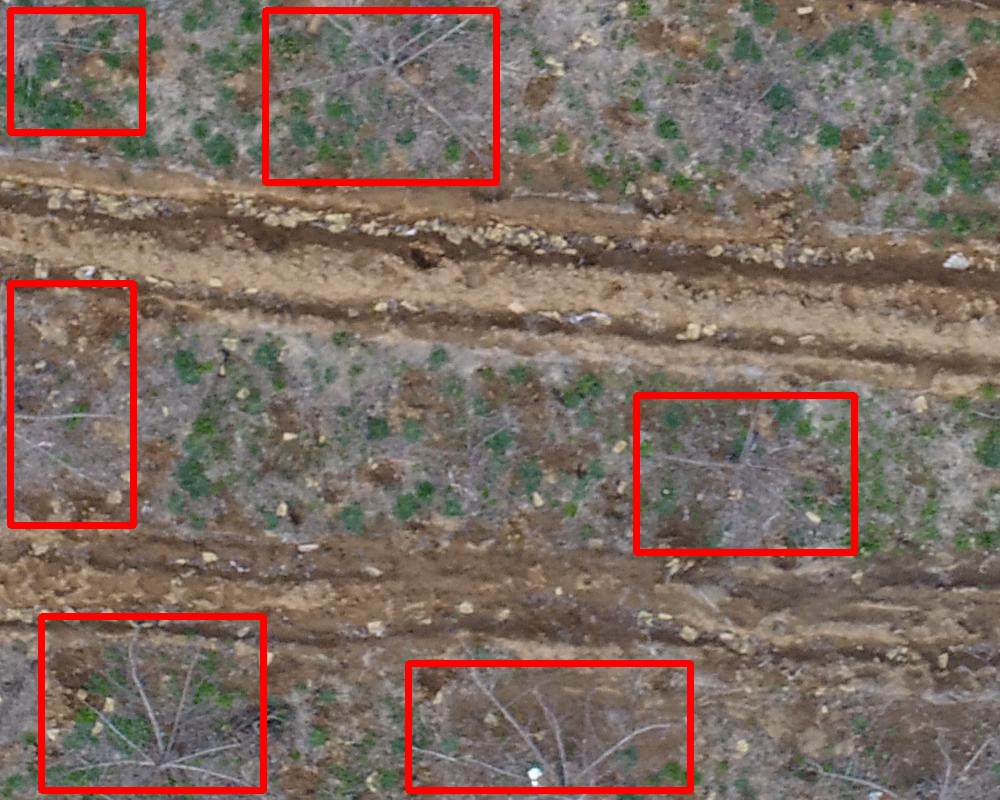apple: (265, 10, 496, 182), (41, 616, 263, 790), (408, 663, 690, 790), (636, 395, 854, 552), (10, 283, 133, 525), (10, 10, 142, 132)
